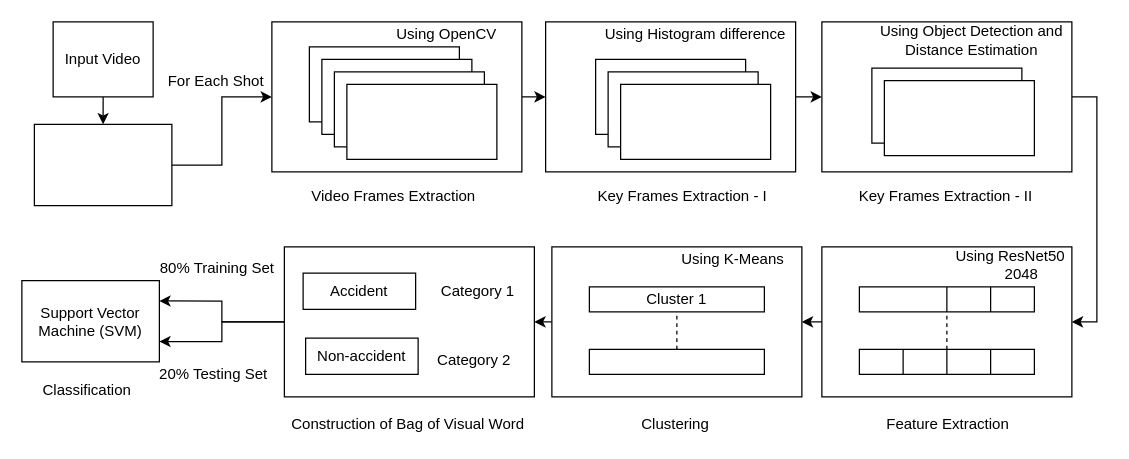
Some shapes in this 1129 by 459 pixel diagram are drawn without their labels. Here are the shapes that lost their labels. From the top down, the centre of each, then its label:
[102,164]: Shots Extraction Using PySceneDetect
[676,361]: Cluster 5
